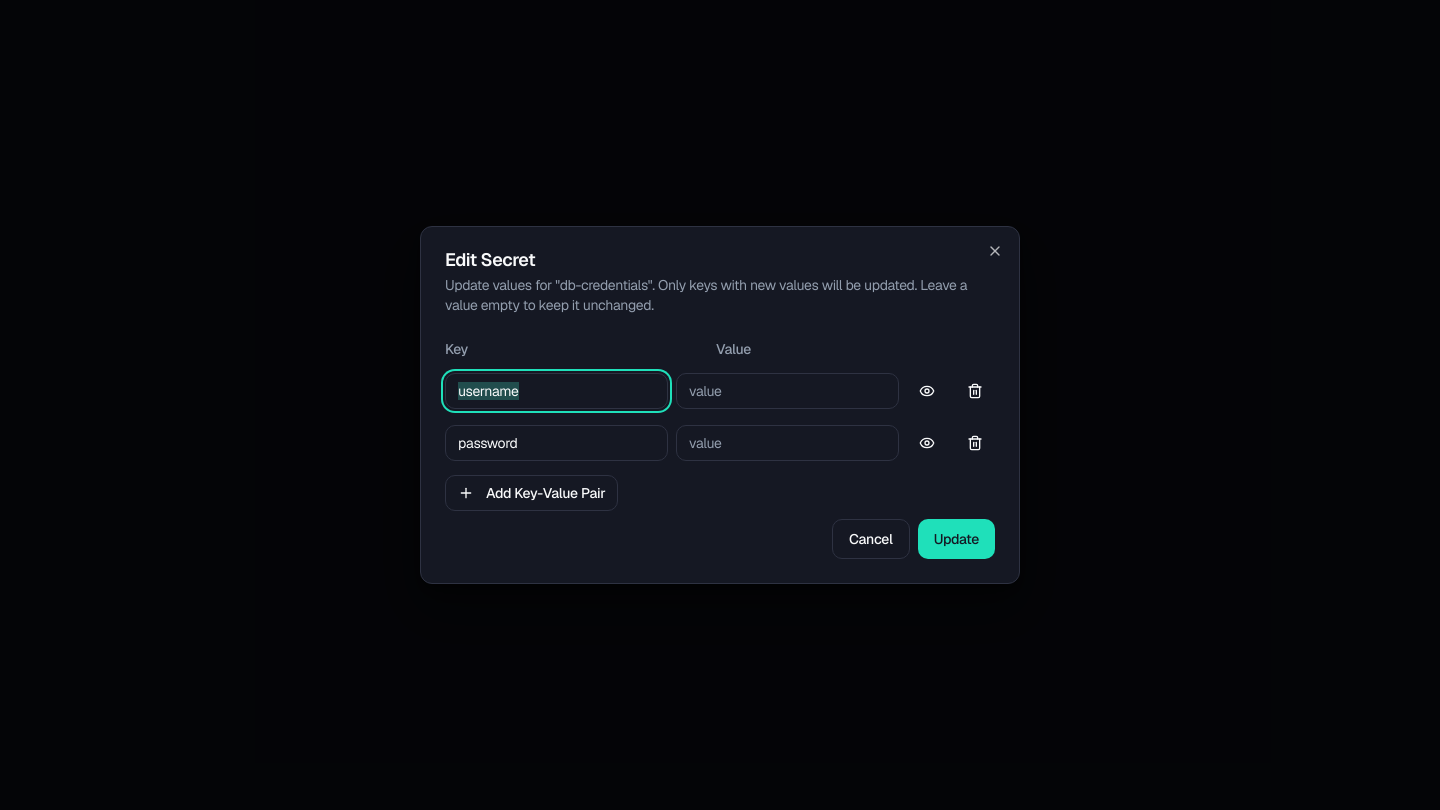
Test: EditSecretDialog › shows validation error when no values provided
This screenshot has width=1440, height=810.
// Submit without typing any values (all keys have empty values)
Click the button "Update": point(956, 539) [918,519,995,559]
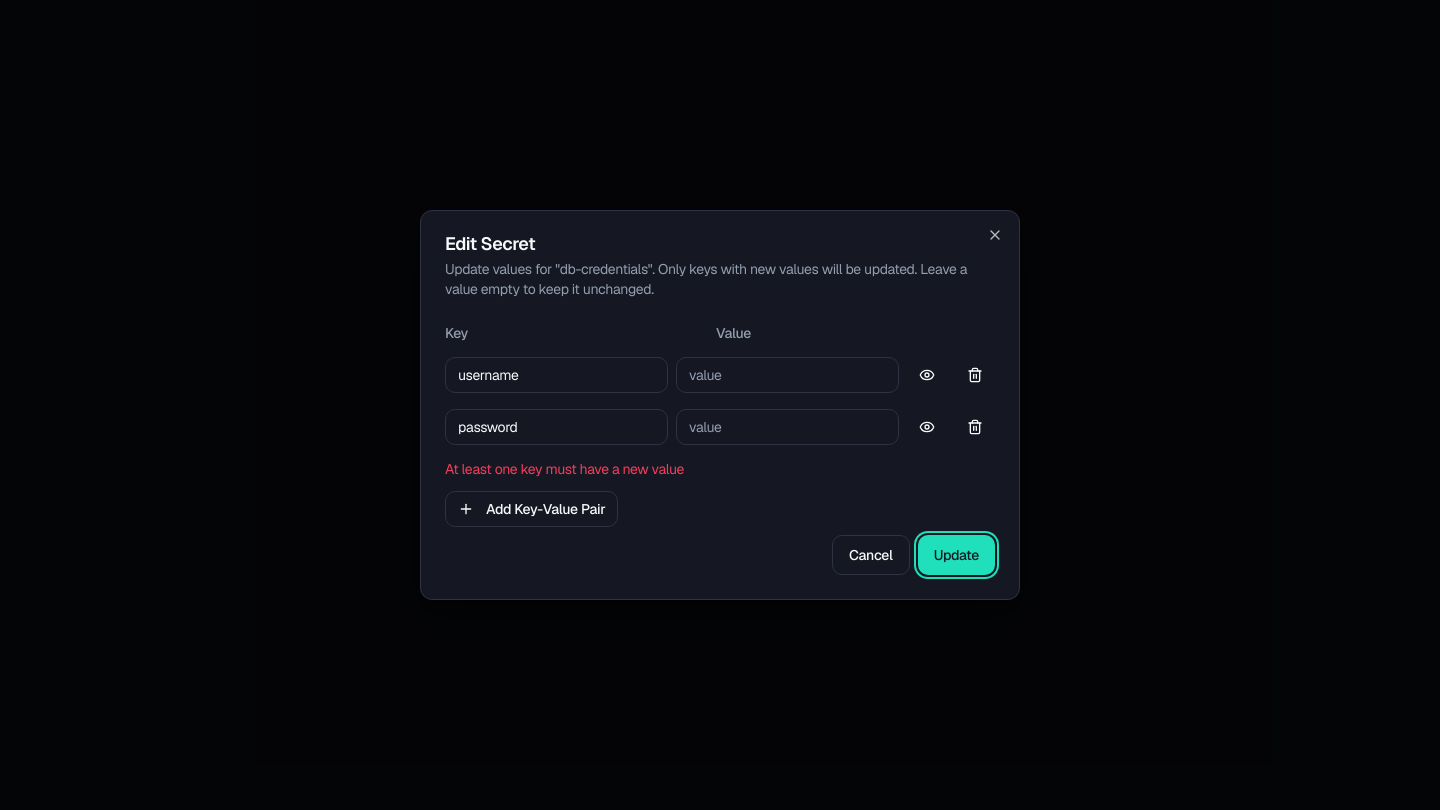
Expected: the text "At least one key must have a new value" is shown, [445,460,684,478]
